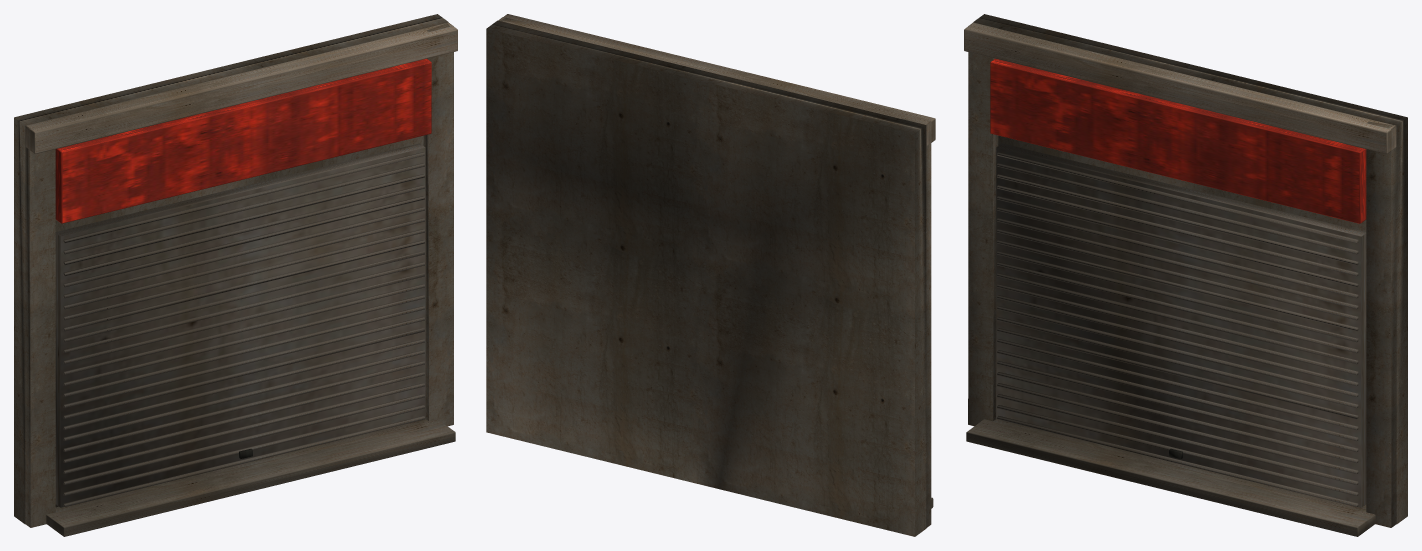
Rendered from mat_tien_tret_02_lod1.glb.
3 renders of one model, left to right at view 1: azimuth 30°, elevation 25°; view 2: azimuth 150°, elevation 25°; view 3: azimuth 330°, elevation 25°, orthographic.
Parts seen in each view (by area): view 1: mat_tien_tret_02.001; view 2: mat_tien_tret_02.001; view 3: mat_tien_tret_02.001.
Boxes of the visible parts, x1=… form: mat_tien_tret_02.001: x1=14, y1=14, x2=457, y2=536; mat_tien_tret_02.001: x1=486, y1=14, x2=935, y2=536; mat_tien_tret_02.001: x1=964, y1=14, x2=1407, y2=536.
Size of the model in its own units: 4 by 3.6 by 0.56.
Materials: 2 (2 with a texture image).
